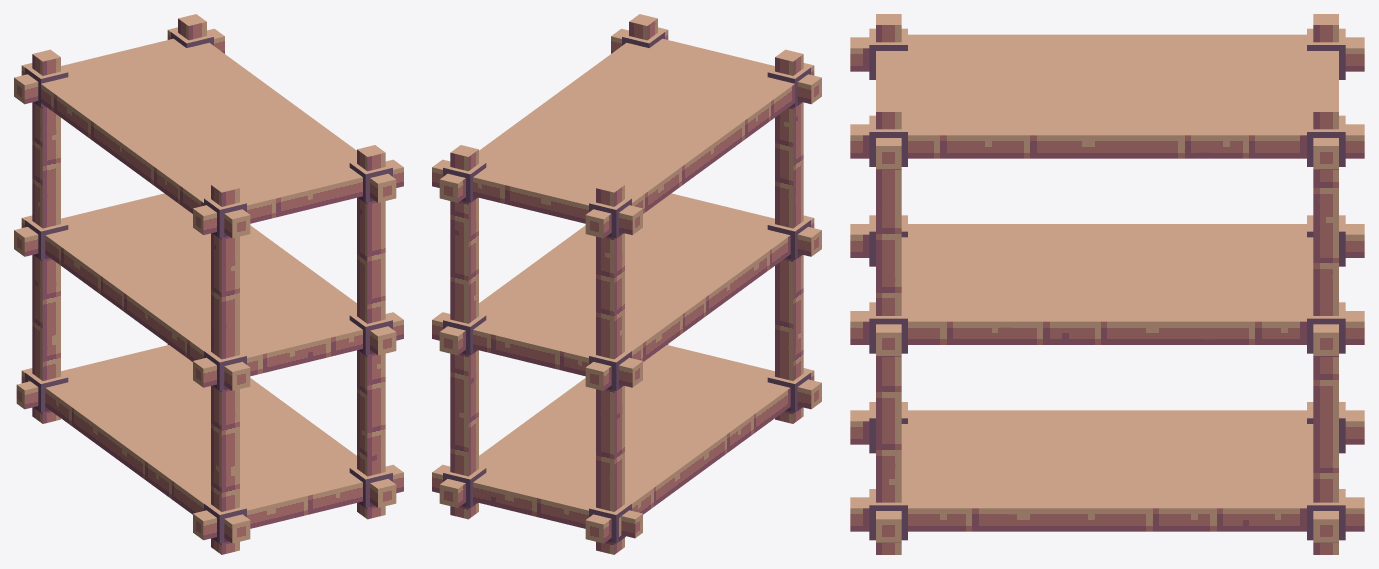
File: scaffolding_aao.fezao.glb
3 renders of one model, left to right at view 1: azimuth 30°, elevation 25°; view 2: azimuth 150°, elevation 25°; view 3: azimuth 270°, elevation 25°, orthographic. The views are drawn at different scales.
Visible parts, largest first — view 1: SCAFFOLDING_AAO; view 2: SCAFFOLDING_AAO; view 3: SCAFFOLDING_AAO.
Part boxes in pixels (x1=…): SCAFFOLDING_AAO: x1=14, y1=14, x2=403, y2=554; SCAFFOLDING_AAO: x1=432, y1=14, x2=821, y2=554; SCAFFOLDING_AAO: x1=850, y1=14, x2=1364, y2=554.
Size of the model in its own units: 2.75 by 4.75 by 5.
1 material, 1 textured.
